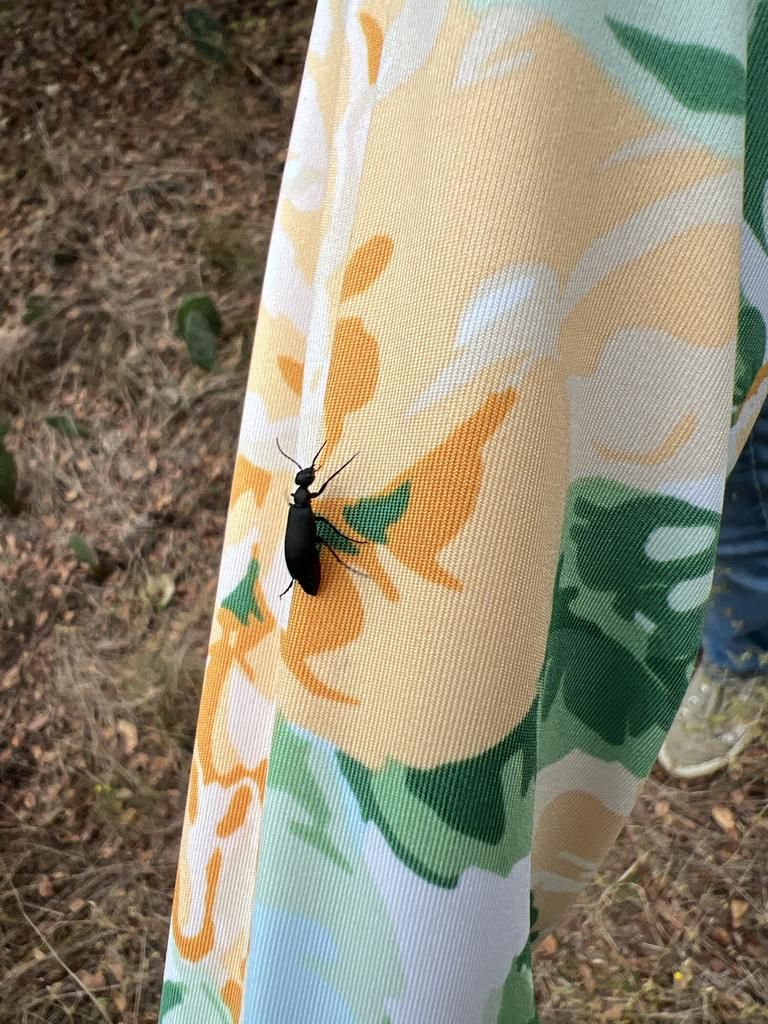blister_beetle: (235, 421, 386, 624)
